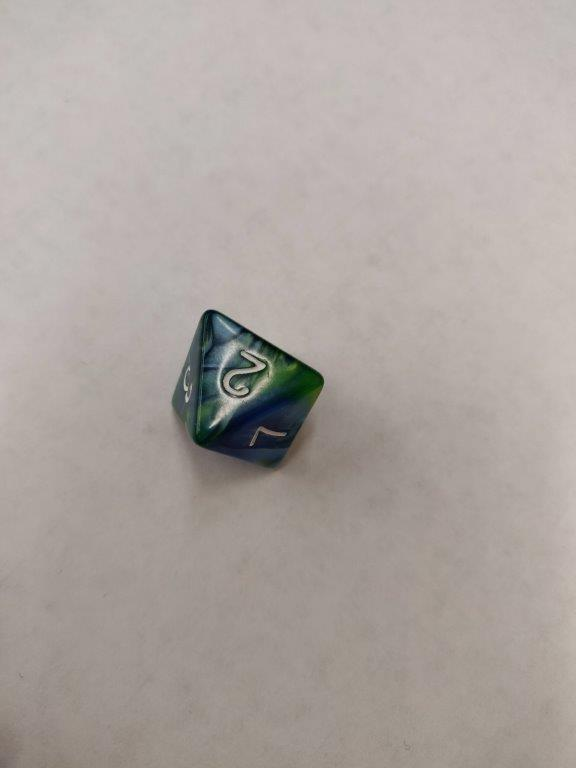d8-2: (171, 310, 325, 471)
